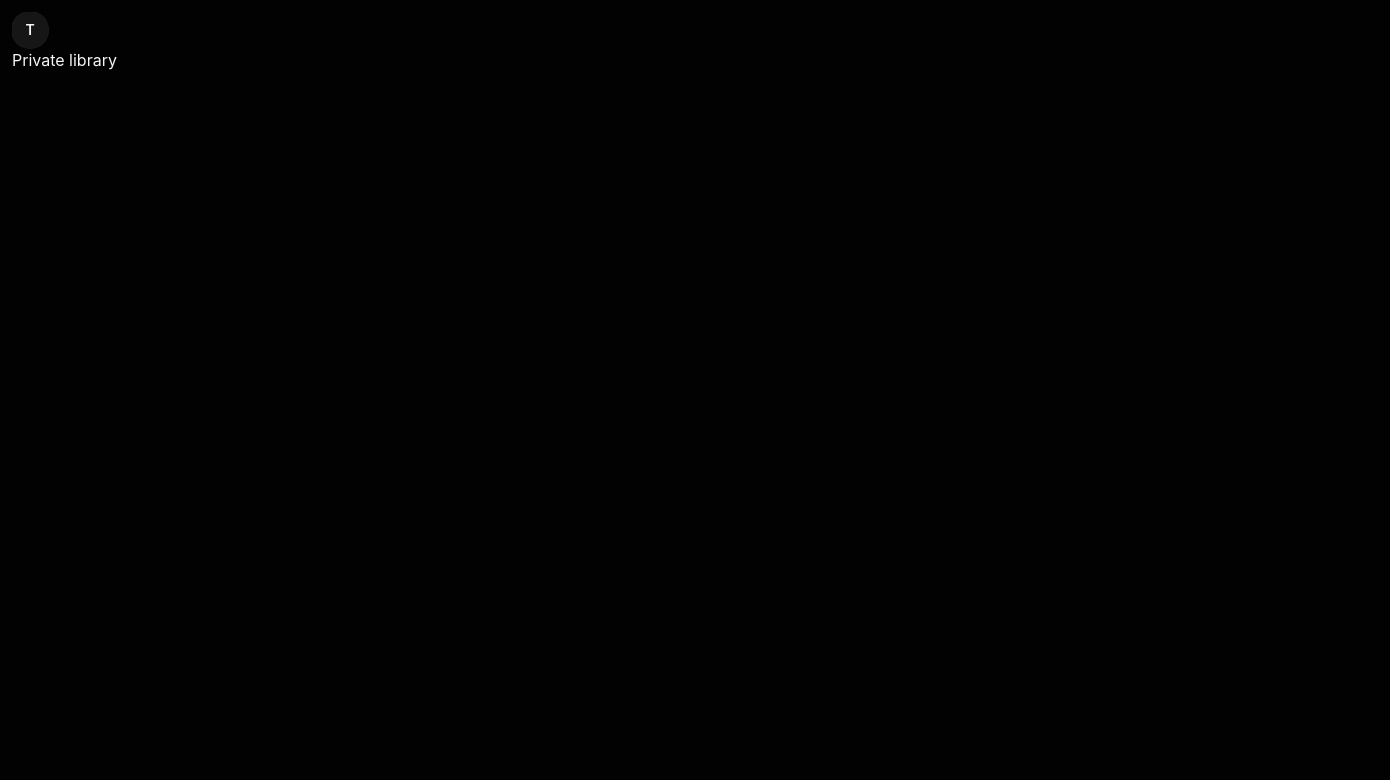
Test: UserMenu logout › keeps the session and library when logout fails and reports the error
Click the button named "Account" at point(30, 30), box [12,12,48,48]
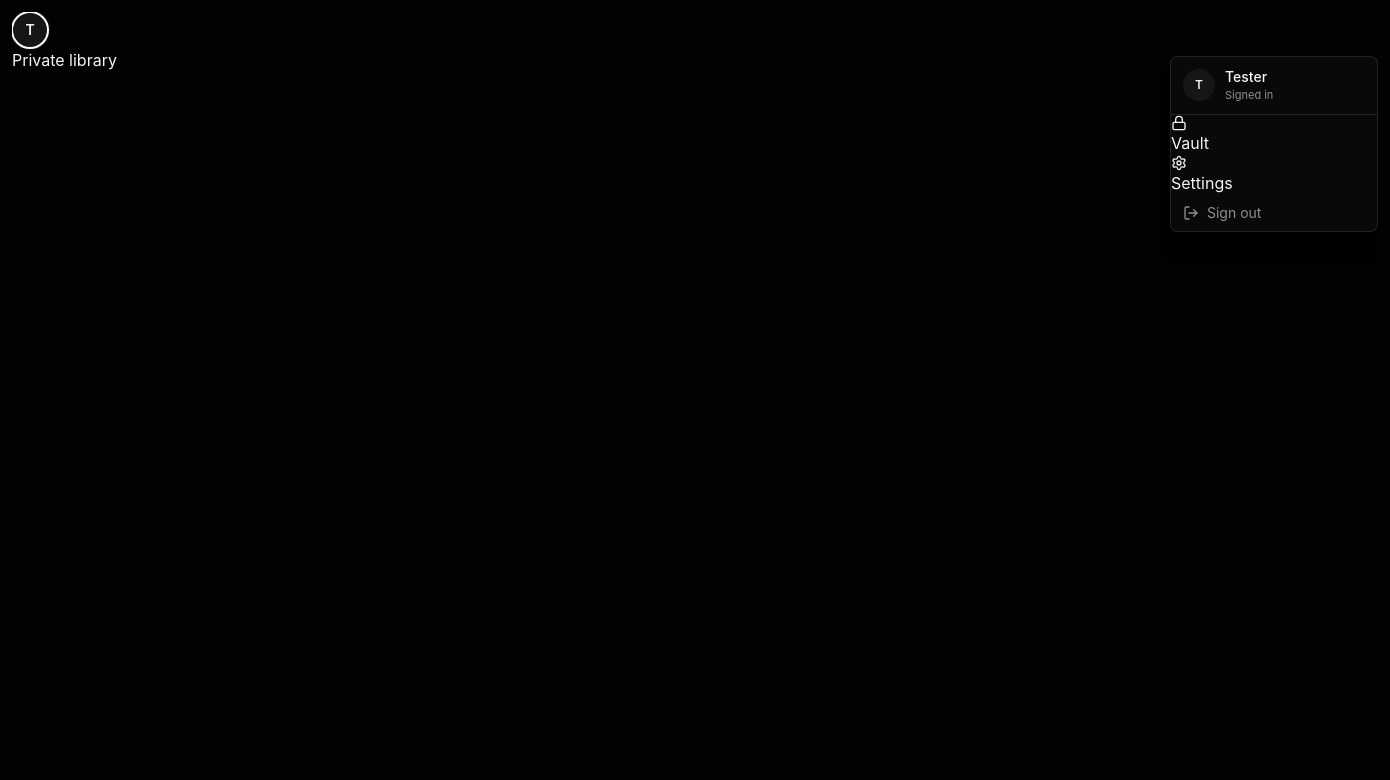
Click the menu item "Sign out" at point(1274, 212), box [1171,194,1377,230]
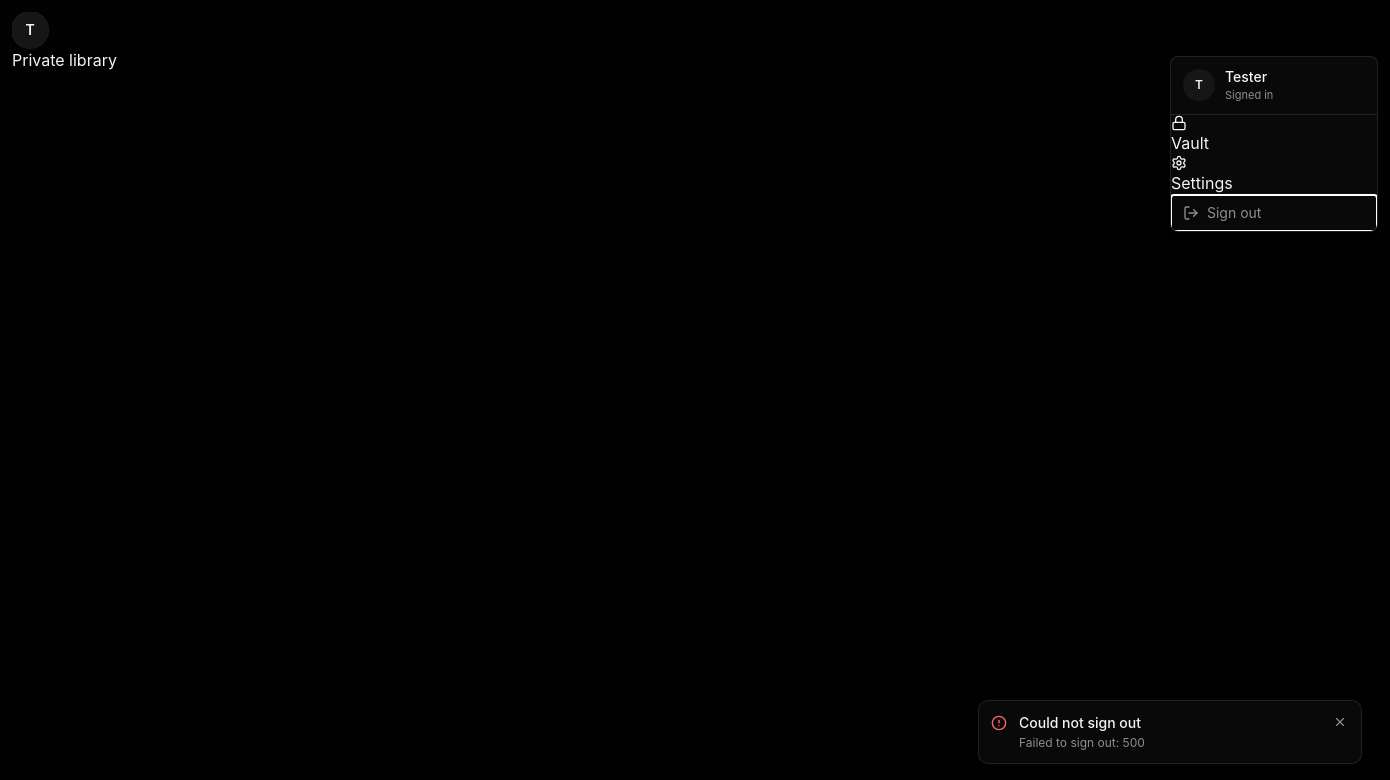
Expected: the menu item "Sign out" is enabled, [1171,194,1377,230]
Expected: the text "Could not sign out" is shown, [1019,714,1141,731]
Expected: the text "Failed to sign out: 500" is shown, [1019,735,1145,750]
